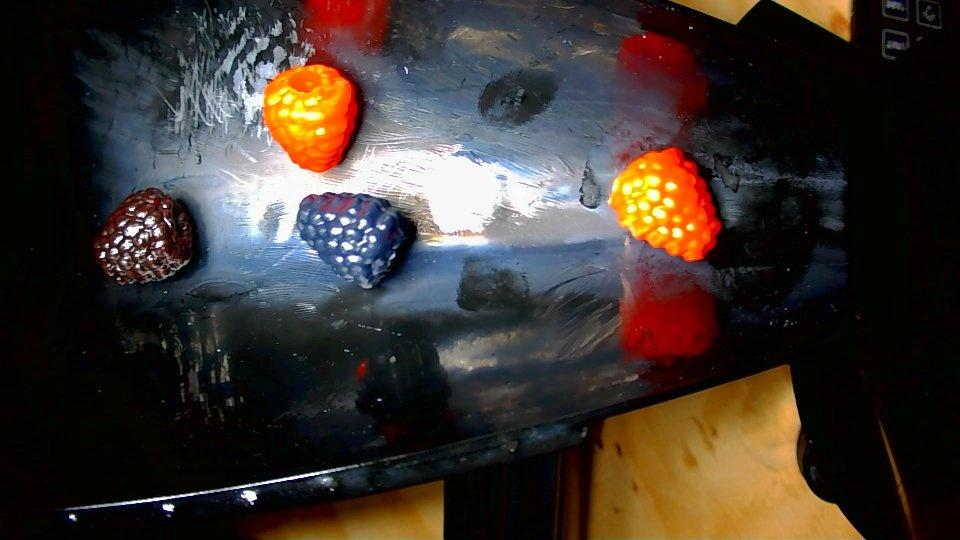berry: (608, 147, 720, 261), (296, 194, 408, 288), (263, 64, 358, 172), (93, 188, 192, 284)
